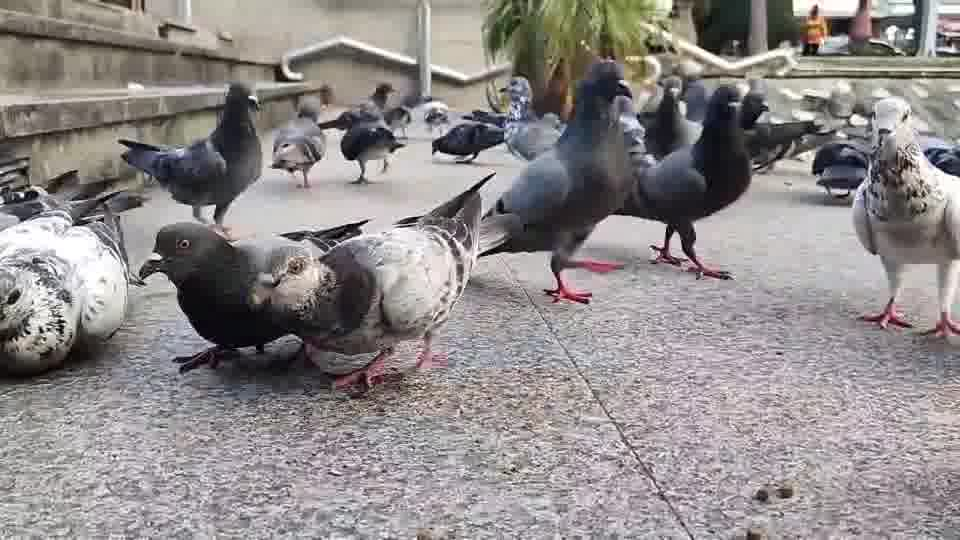Pigeon: (264, 169, 497, 393), (473, 57, 635, 305), (136, 215, 374, 375), (622, 83, 767, 280), (850, 96, 959, 338), (0, 186, 135, 376), (116, 81, 263, 238), (317, 106, 406, 184), (268, 96, 327, 189), (430, 119, 507, 164)
